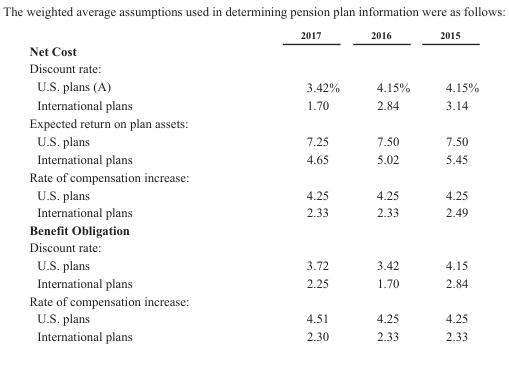table: (28, 29, 478, 343)
table column: (28, 29, 215, 343), (215, 29, 354, 343), (354, 29, 424, 343), (424, 29, 478, 343)
table column header: (28, 29, 478, 42)
table projected row header: (28, 113, 478, 131), (28, 167, 478, 185), (28, 220, 478, 238), (28, 291, 478, 309), (28, 42, 478, 59), (28, 59, 478, 76), (28, 238, 478, 255)
table row: (28, 76, 478, 95), (28, 95, 478, 113), (28, 113, 478, 131), (28, 131, 478, 149), (28, 149, 478, 167), (28, 167, 478, 185), (28, 185, 478, 203), (28, 220, 478, 238), (28, 255, 478, 273), (28, 273, 478, 291), (28, 291, 478, 309), (28, 309, 478, 327), (28, 42, 478, 59), (28, 59, 478, 76), (28, 203, 478, 220), (28, 238, 478, 255), (28, 327, 478, 343), (28, 29, 478, 42)
